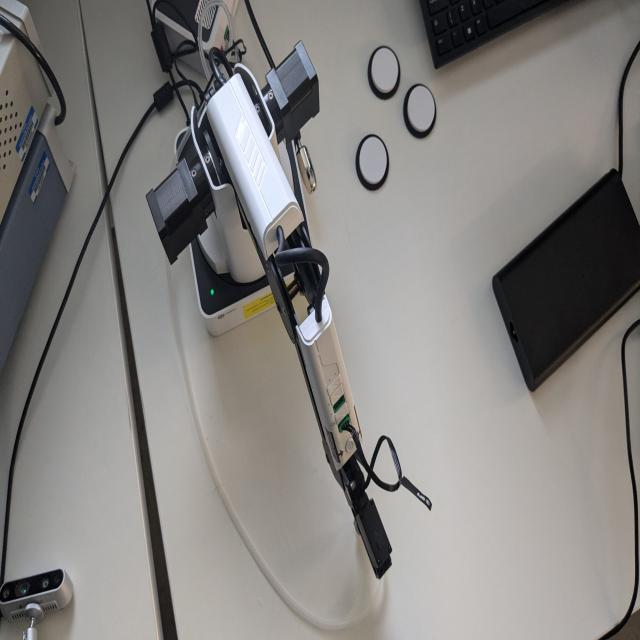Robot-end-effector-HF8z: (350, 492, 394, 581)
